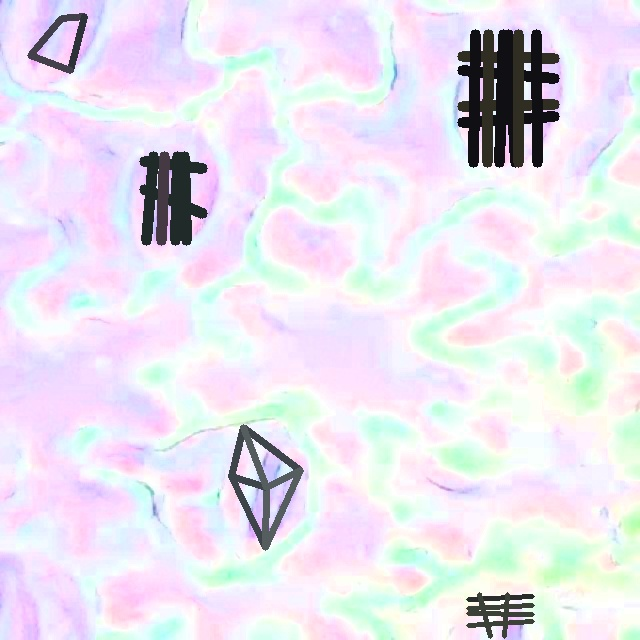open: (458, 30, 558, 167), (228, 424, 303, 550), (139, 151, 206, 244), (28, 15, 86, 73), (466, 592, 534, 638)
